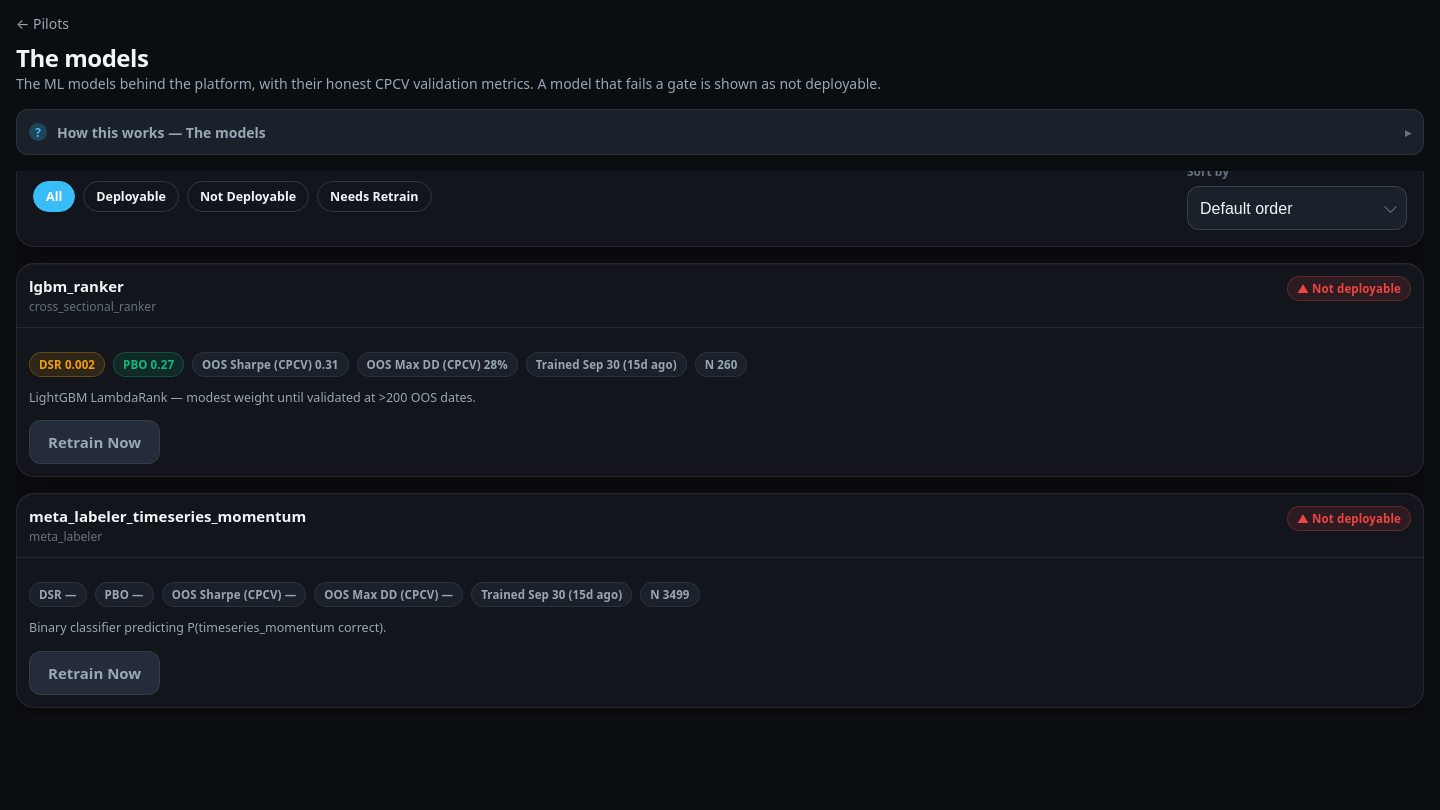
Scenario: Models screen (real mock API) › shows a clear inline error, not just console.error, when createJob 409s (another training job in flight)
(page scrolled)
Click the button "Retrain Now" below "DSR 0.002": coordinates (95, 442) [29,420,160,464]
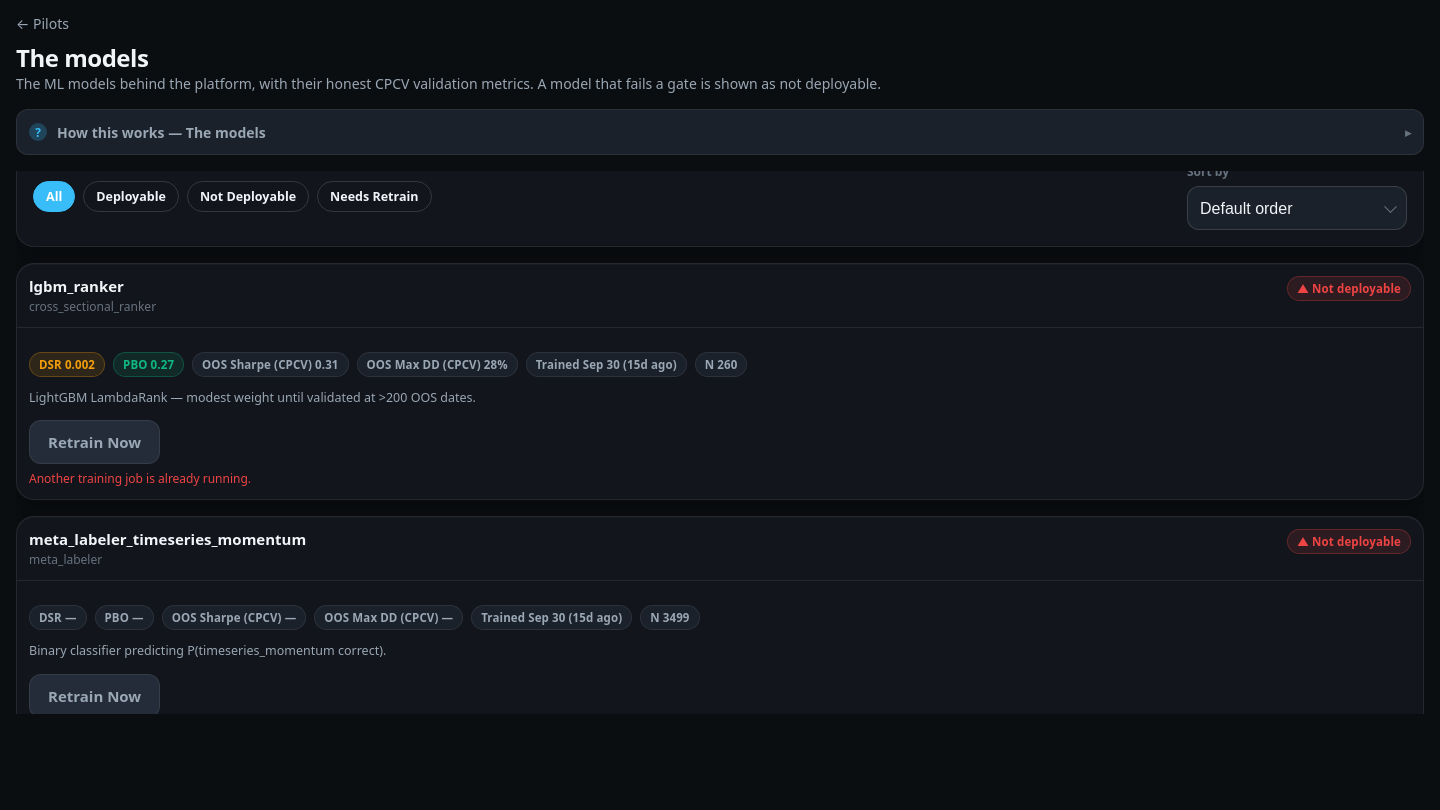
Expected: the text "Another training job is already running." is shown, [29,470,251,487]
